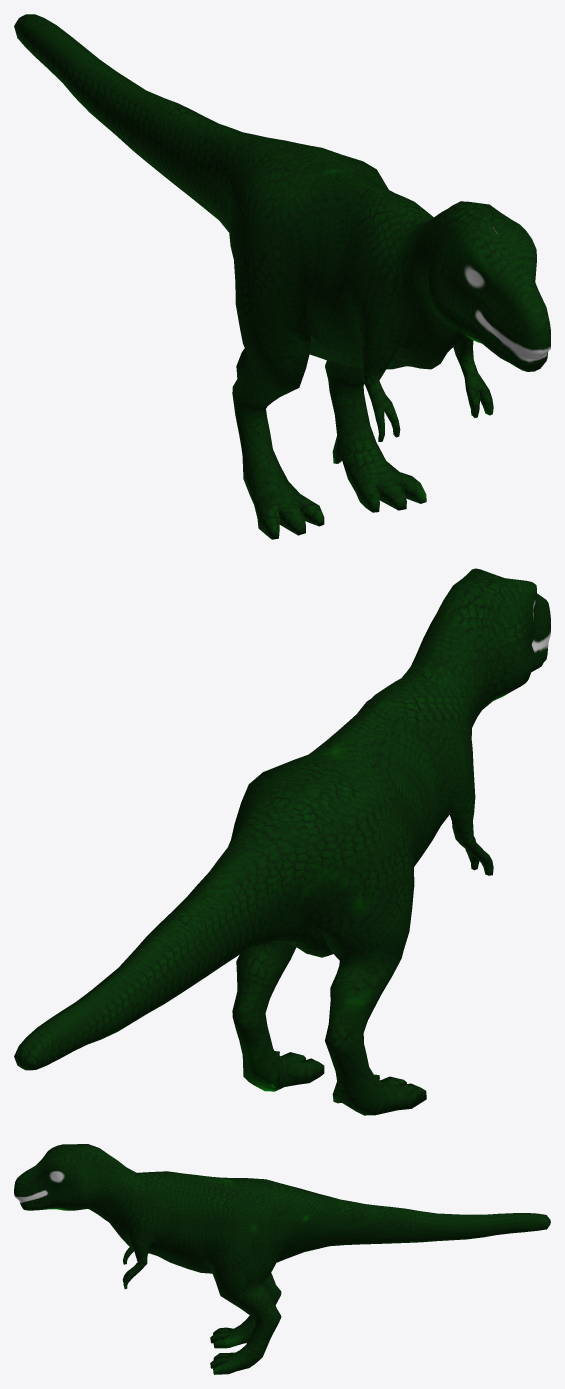
Rendered from t-rex.dae.
3 views of the same model, one above another, from view 1: azimuth 30°, elevation 25°; view 2: azimuth 150°, elevation 25°; view 3: azimuth 270°, elevation 25° (orthographic). The views are drawn at different scales.
Parts seen in each view (by area): view 1: tRex; view 2: tRex; view 3: tRex.
Boxes of the visible parts, left/top/right/bottom form: tRex: left=14, top=14, right=550, bottom=539; tRex: left=14, top=568, right=550, bottom=1115; tRex: left=14, top=1144, right=550, bottom=1374.
Bounding box in the file's own units: 145 × 350 × 814.
1 material, 1 textured.
